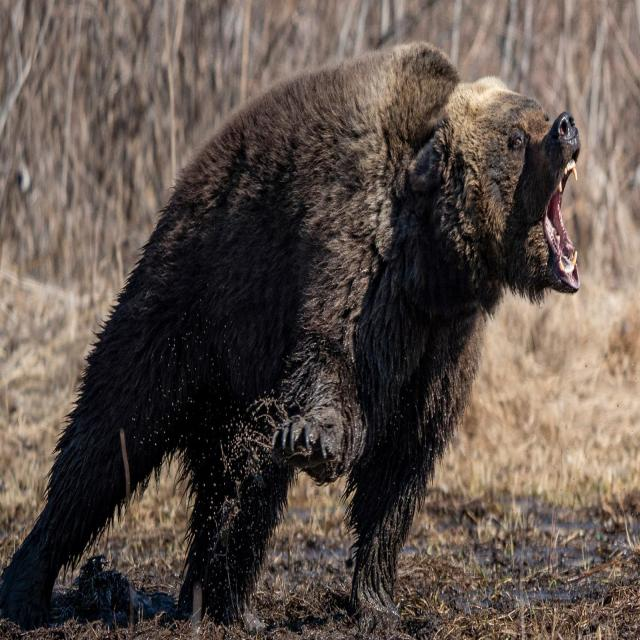Bear: (0, 44, 581, 631)
